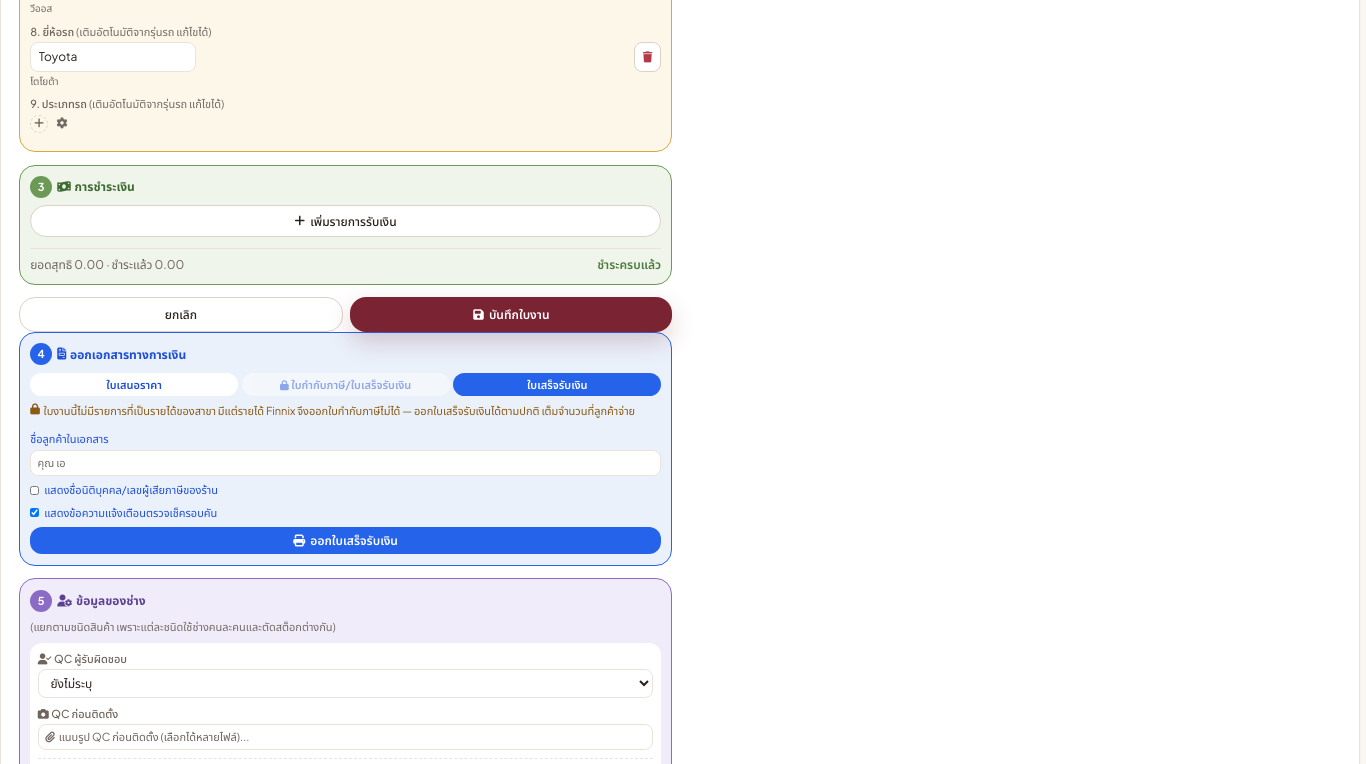
Scenario: TicketDetail — ล็อกใบกำกับภาษีเมื่อรายได้ Finnix › leaves ใบเสนอราคา and ใบเสร็จรับเงิน available
(page scrolled)
Expected: the button "ใบเสร็จรับเงิน" is enabled, [453,373,661,396]
Click the button "ใบเสนอราคา" at (134, 385), box [30,373,238,396]
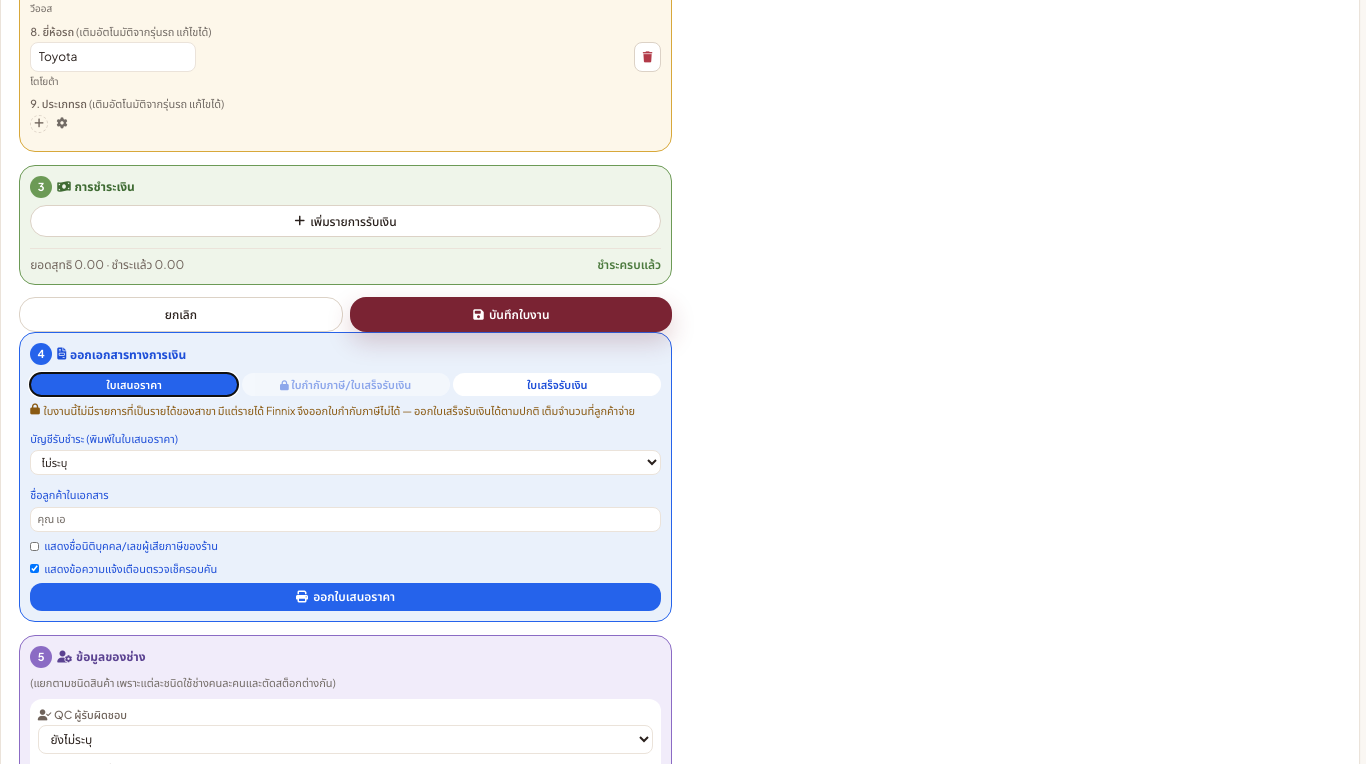
Result: the button "ออกใบเสนอราคา" is shown at [30,583,661,610]
